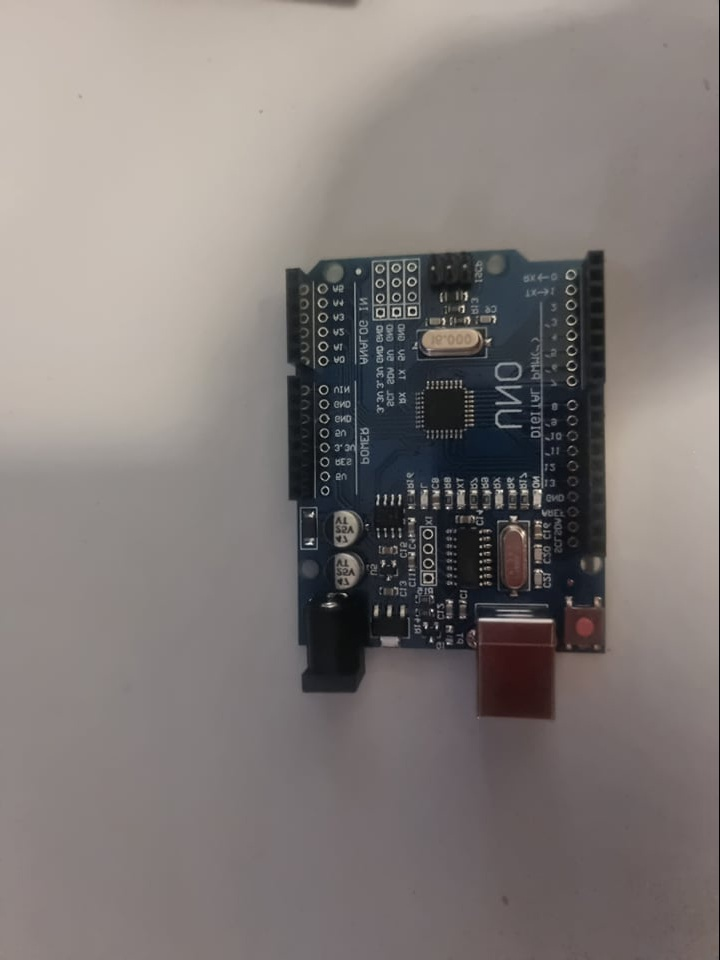UNO R3: (278, 235, 616, 725)
